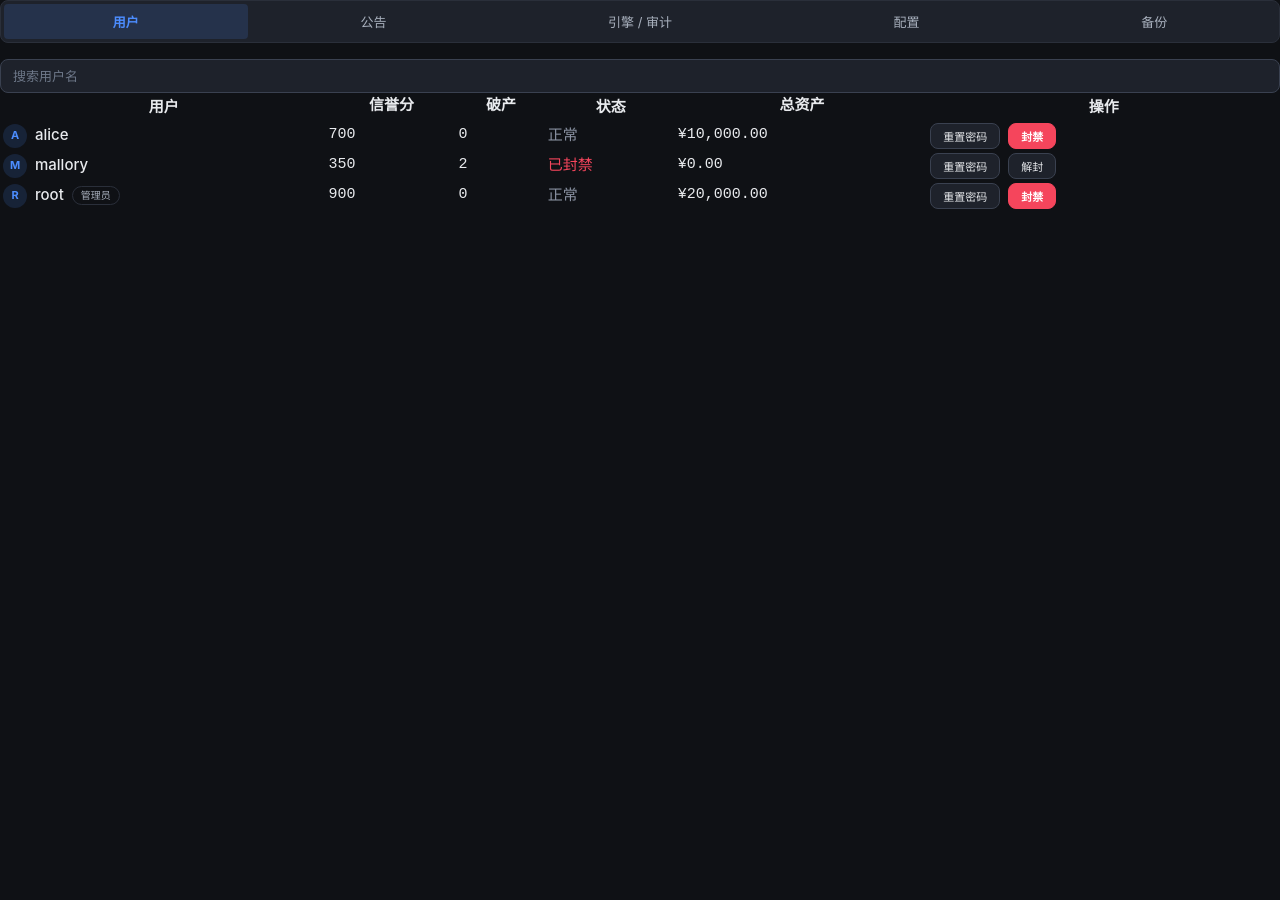
封禁需二次确认 › ⚠️ 点击封禁不直接发请求，先出确认
Check: the table with test id "admin-users" is shown, box x1=0 y1=93 x2=1279 y2=212
Click the button with test id "ban-1". click: point(1032, 136)
box: x1=1008 y1=122 x2=1056 y2=148
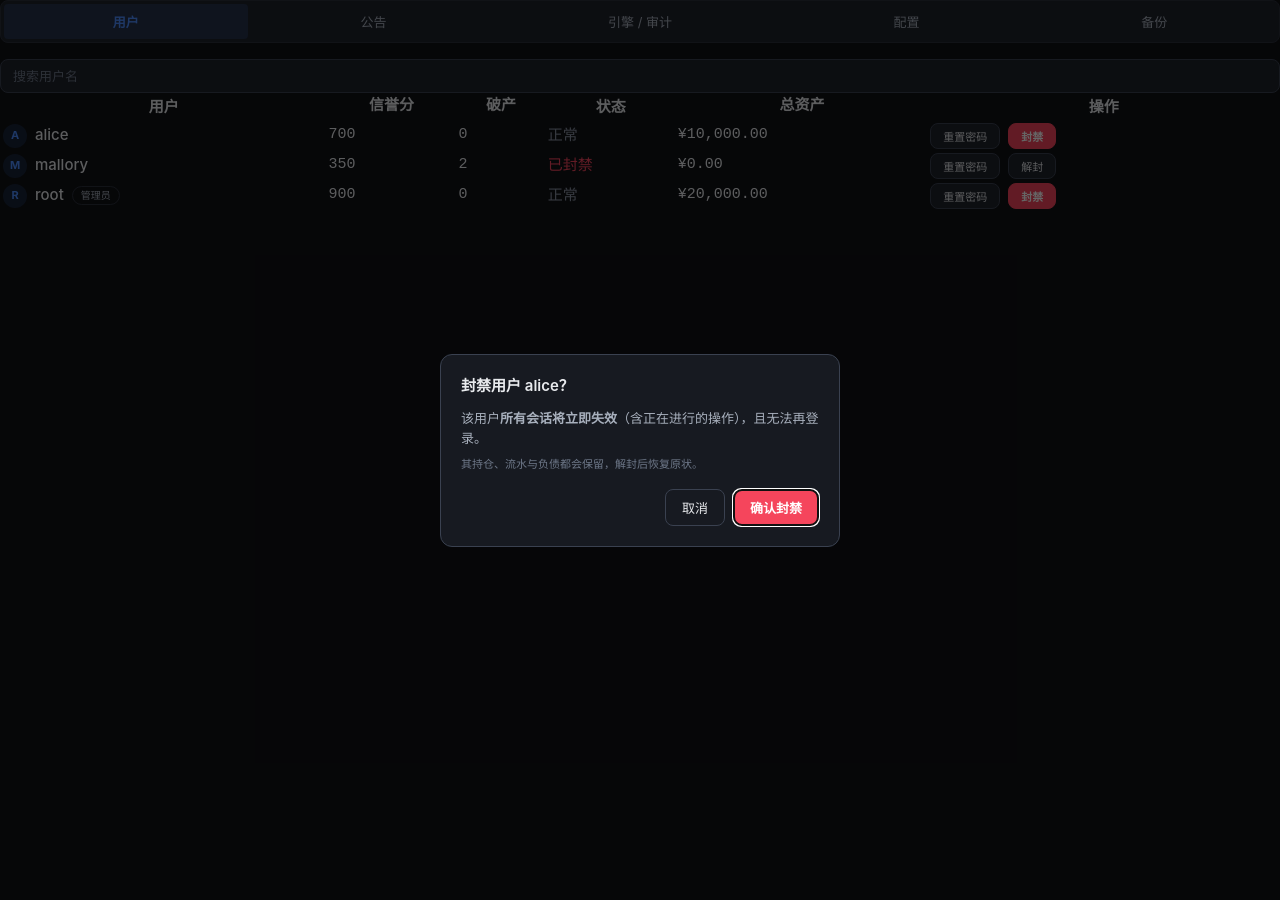
Check: the dialog with test id "confirm-dialog" shows "alice", box x1=461 y1=376 x2=574 y2=394
